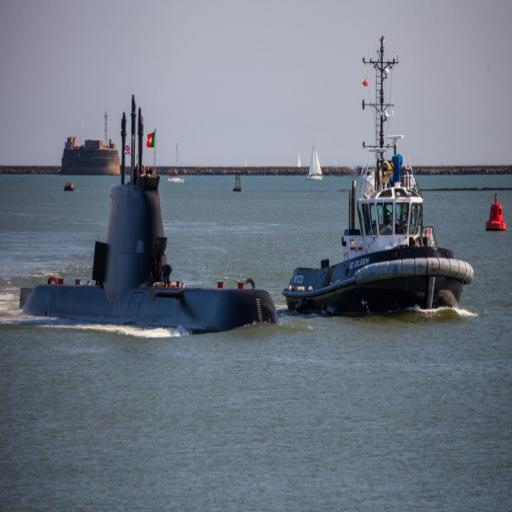submarine: (21, 94, 284, 331)
